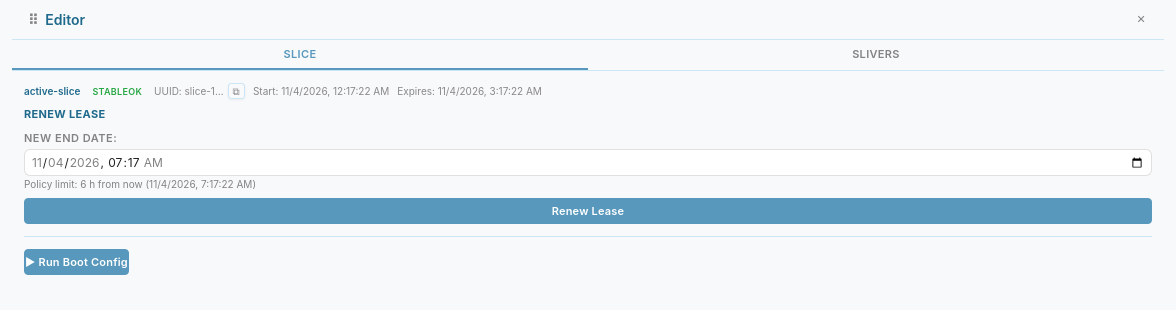
Test: EditorPanel lease renew panel › shows the backend detail message instead of raw JSON on failure
Step 1. Click the button "Renew Lease" → [588, 211], box [24,198,1152,224]
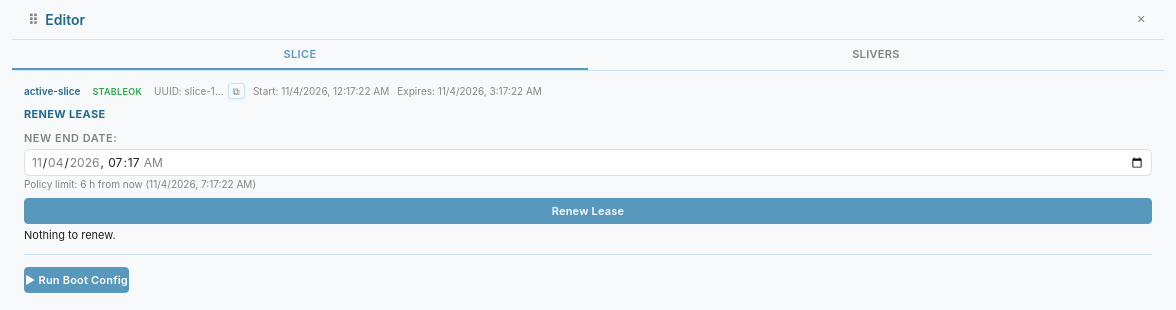
Check: the text "Nothing to renew." is shown, box [24,228,116,242]
